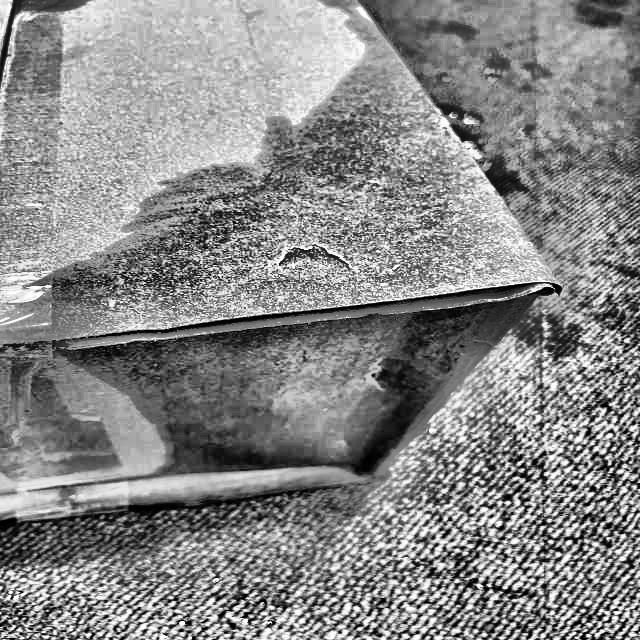box: (0, 0, 581, 533)
wet: (46, 37, 558, 533)
